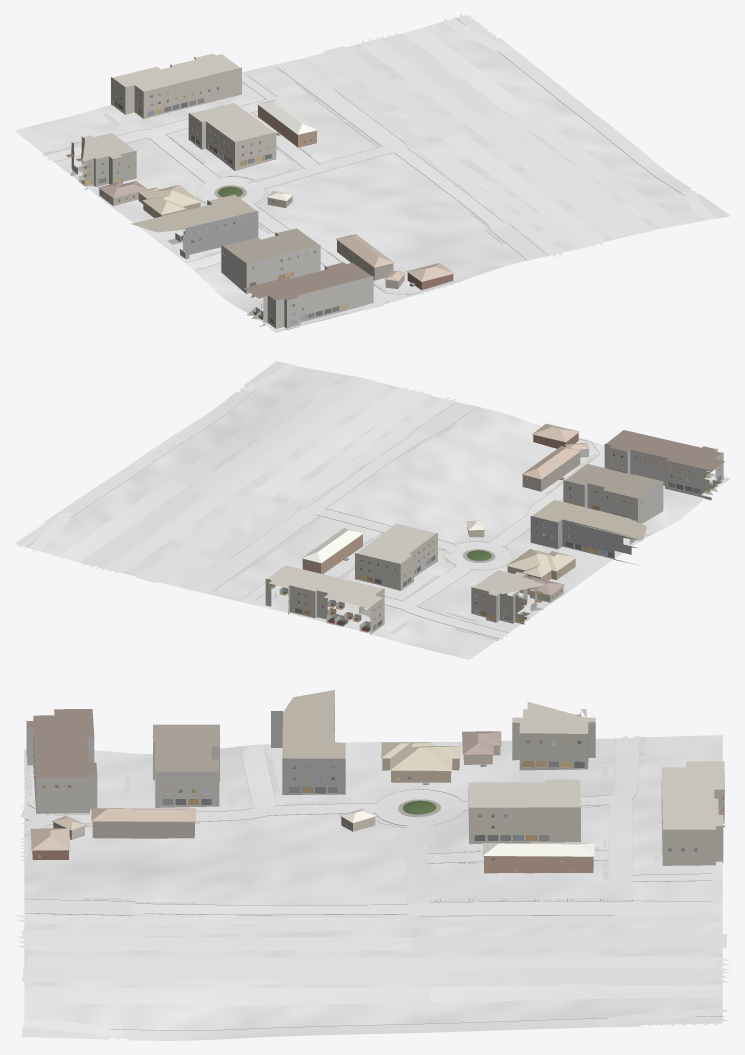
3 views of the same model, one above another, from view 1: azimuth 30°, elevation 25°; view 2: azimuth 150°, elevation 25°; view 3: azimuth 270°, elevation 25° (orthographic). The views are drawn at different scales.
Parts seen in each view (by area): view 1: ground, asphalt, wall_com, roof_flat, concrete, roof, wall, curb, mark_w, walk, mark_y, detail (+3 smaller); view 2: ground, asphalt, wall_com, roof_flat, concrete, roof, wall, curb, mark_w, mark_y, room, walk (+3 smaller); view 3: ground, asphalt, roof_flat, wall_com, concrete, roof, wall, curb, mark_w, walk, mark_y, detail (+2 smaller).
Boxes of the visible parts, x1,y1,x2,y2 form: ground: (14, 15, 704, 330); asphalt: (277, 14, 730, 259); wall_com: (71, 57, 373, 329); roof_flat: (73, 53, 371, 300); concrete: (42, 75, 460, 310); roof: (98, 99, 454, 281); wall: (99, 105, 453, 290); curb: (43, 17, 684, 332); mark_w: (202, 17, 714, 304); walk: (43, 83, 506, 332); mark_y: (291, 17, 716, 254); detail: (66, 85, 454, 324); ground: (15, 366, 728, 659); asphalt: (14, 361, 476, 593); wall_com: (265, 444, 723, 634); roof_flat: (267, 430, 724, 608); concrete: (244, 436, 648, 639); roof: (302, 423, 589, 595); wall: (302, 433, 580, 602); curb: (25, 389, 714, 640); mark_w: (21, 365, 499, 592); mark_y: (26, 364, 457, 589); room: (271, 462, 721, 632); walk: (234, 422, 730, 640); ground: (24, 735, 722, 1038); asphalt: (15, 899, 729, 1040); roof_flat: (27, 690, 724, 829); wall_com: (26, 707, 724, 865); concrete: (20, 735, 712, 904); roof: (30, 731, 594, 856); wall: (32, 746, 593, 873); curb: (24, 737, 724, 1030); mark_w: (17, 808, 726, 1035); walk: (24, 737, 660, 904); mark_y: (19, 912, 726, 1031); detail: (27, 714, 697, 870).
Bounding box in the file's own units: 267 × 23.02 × 257.
